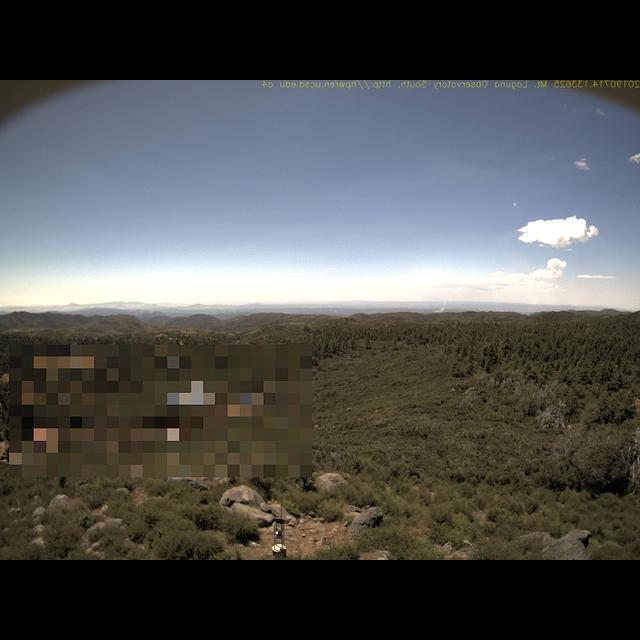Smoke: (431, 291, 453, 312)
